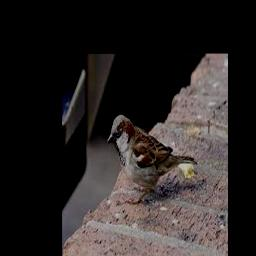Sparrow: (107, 113, 197, 203)
